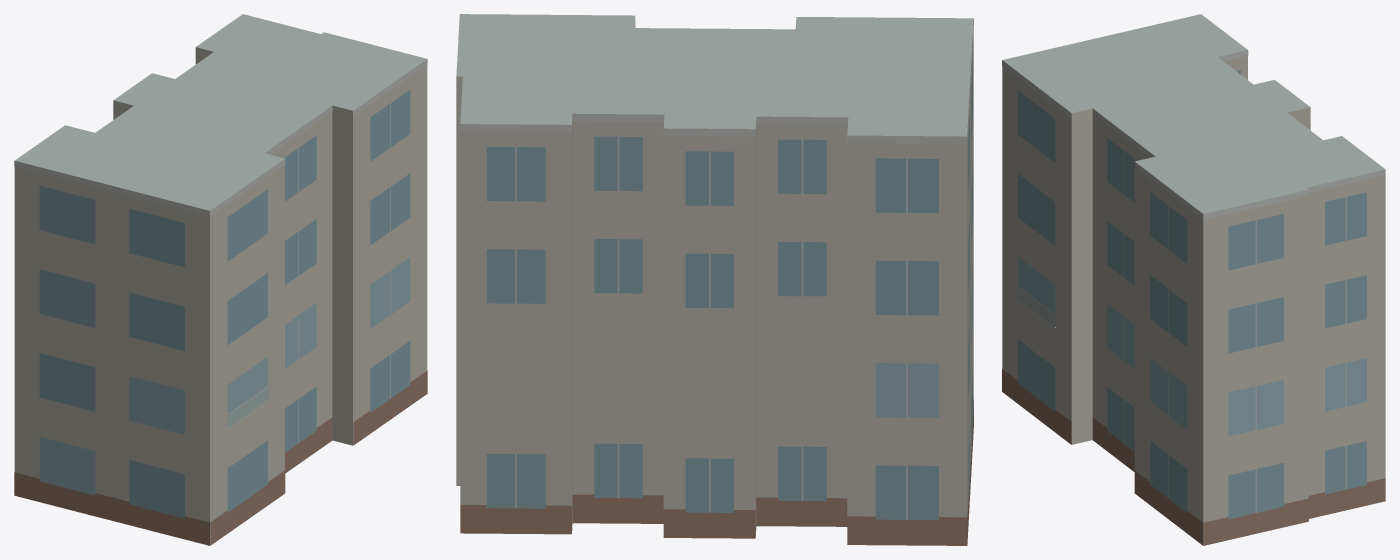
Rendered from survey-upis-32616055.glb.
The picture shows the model from 3 angles, left to right: view 1: azimuth 30°, elevation 25°; view 2: azimuth 150°, elevation 25°; view 3: azimuth 270°, elevation 25°; orthographic projection. The views are drawn at different scales.
Parts seen in each view (by area): view 1: survey-upis-32616055.tmp; view 2: survey-upis-32616055.tmp; view 3: survey-upis-32616055.tmp.
Part boxes in pixels (x1,y1,x2,y2): survey-upis-32616055.tmp: (14, 14, 427, 545); survey-upis-32616055.tmp: (456, 14, 973, 545); survey-upis-32616055.tmp: (1002, 14, 1385, 545).
Size of the model in its own units: 17.8 by 13.75 by 14.42.
